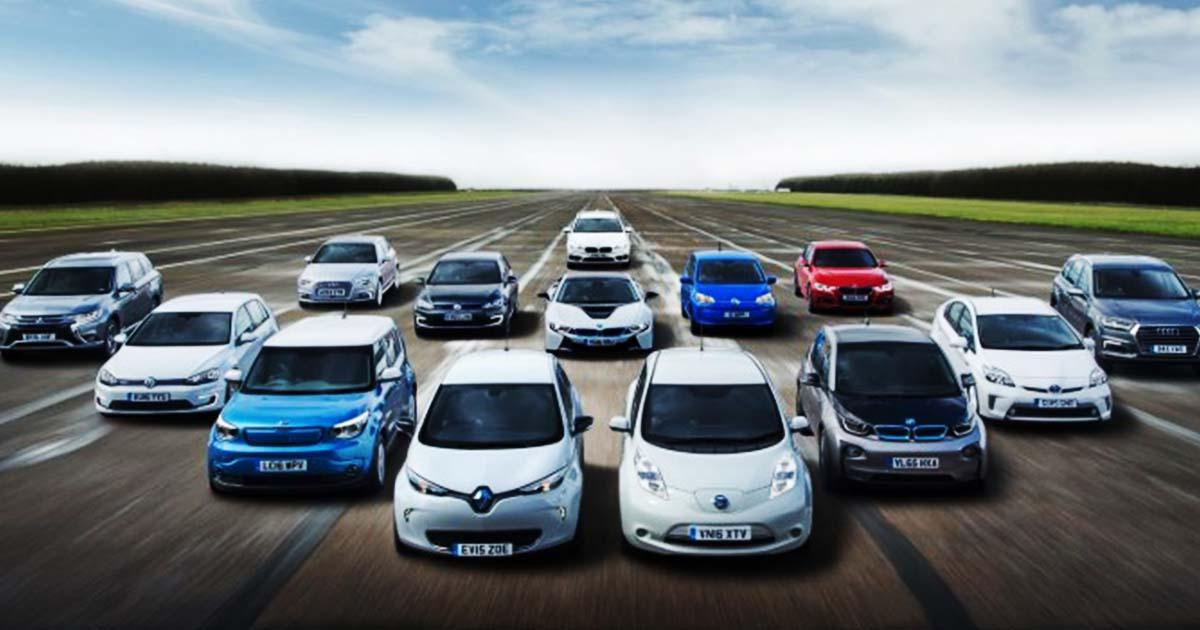windshield: (634, 365, 794, 452), (412, 373, 570, 450), (829, 333, 970, 405), (237, 342, 377, 395)
